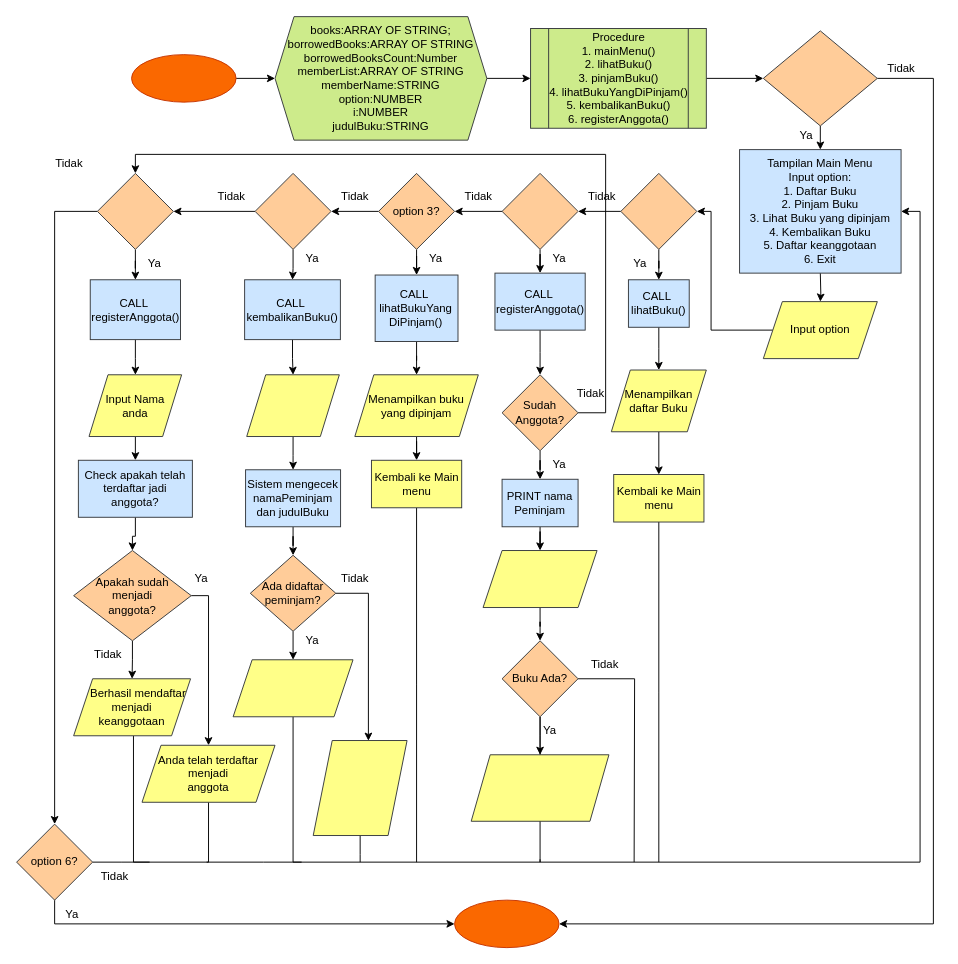
The diagram is 958 pixels wide and 964 high, and some of its shapes have lost their labels. Each missing label, with the centre of its shape:
Buka Aplikasi ?: point (819, 78)
END: point (506, 923)
Input judul buku: point (539, 579)
Input Nama Peminjam; judulBuku: point (292, 405)
option 1?: point (658, 210)
option 2?: point (539, 210)
option 4?: point (292, 210)
option 5?: point (134, 210)
Print buku berhasil di pinjam: point (539, 787)
Print buku berhasil dikembalikan: point (292, 688)
Print Buku tak ada yang di pinjam: point (359, 788)
Start: point (183, 78)
